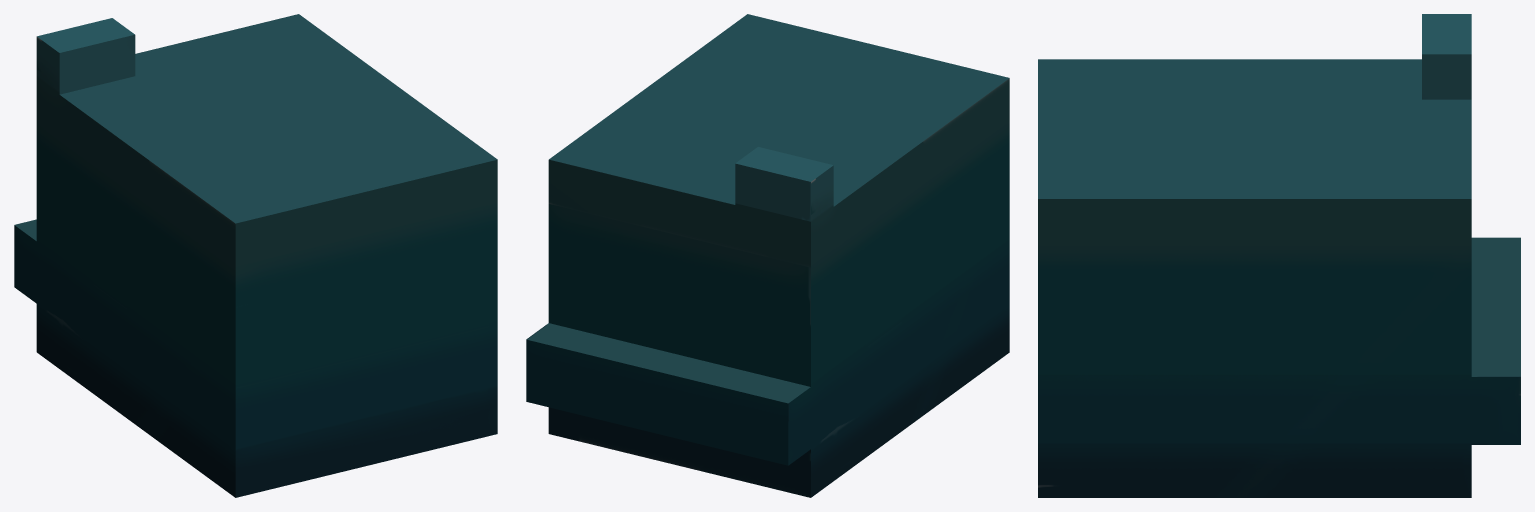
The model's file is Arbusto 4.obj.
3 views of the same model, side by side, from view 1: azimuth 30°, elevation 25°; view 2: azimuth 150°, elevation 25°; view 3: azimuth 270°, elevation 25° (orthographic). The views are drawn at different scales.
Visible parts, largest first — view 1: Arbusto 4; view 2: Arbusto 4; view 3: Arbusto 4.
Boxes of the visible parts, box(x1,y1,x2,y2) form: Arbusto 4: box(14, 14, 497, 497); Arbusto 4: box(526, 14, 1009, 497); Arbusto 4: box(1038, 14, 1520, 497).
Bounding box in the file's own units: 1.24 × 1.43 × 1.81.
1 material, 1 textured.
